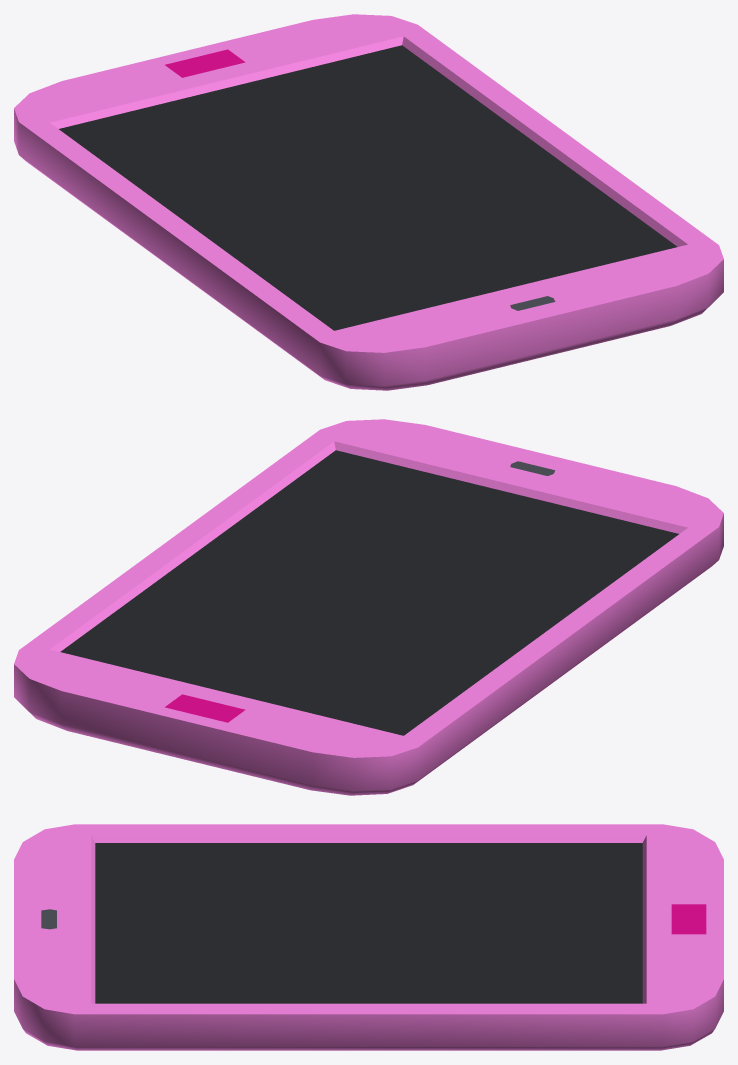
The model's file is NF_Phone_06.fbx.
The picture shows the model from 3 angles, top to bottom: view 1: azimuth 30°, elevation 25°; view 2: azimuth 150°, elevation 25°; view 3: azimuth 270°, elevation 25°; orthographic projection. The views are drawn at different scales.
Visible parts, largest first — view 1: NF_Phone_06; view 2: NF_Phone_06; view 3: NF_Phone_06.
Part boxes in pixels (<box>): NF_Phone_06: <box>14,14,723,390</box>; NF_Phone_06: <box>14,419,723,795</box>; NF_Phone_06: <box>14,824,723,1050</box>.
Bounding box in the file's own units: 0.1599 × 0.0171 × 0.2523.
